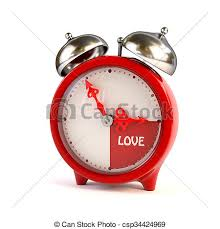alarm_clock: (45, 25, 187, 189), (45, 28, 187, 189)
